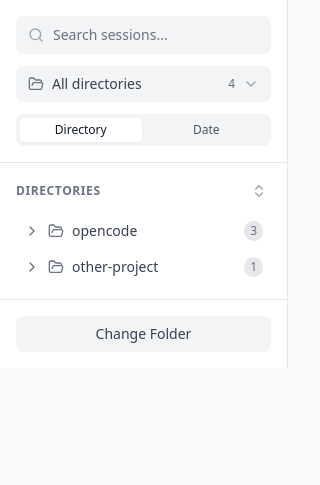
SessionBrowser › rendering › renders sessions when directory is expanded
Check: the text "Implement feature X" is not shown
// Click to expand the opencode directory
Click the button with aria-label "Expand opencode" at (144, 231), box [16,215,271,247]
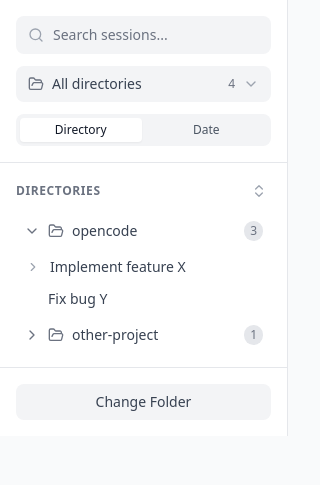
Check: the text "Explore implementation" is not shown
Check: the text "Implement feature X" is shown, box [50,257,186,276]
Check: the text "Fix bug Y" is shown, box [48,289,107,308]
// Click the expand button for the parent session using accessible name
Click the button named "Expand Implement feature X" at (33, 267), box [24,258,42,276]
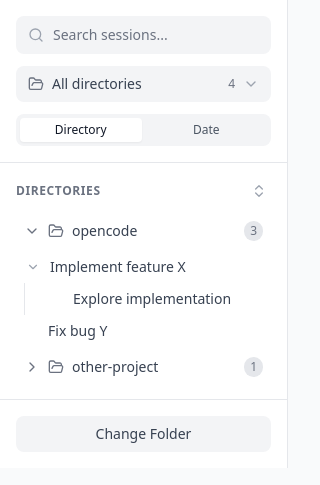
Check: the text "Explore implementation" is shown, box [73,289,231,308]
